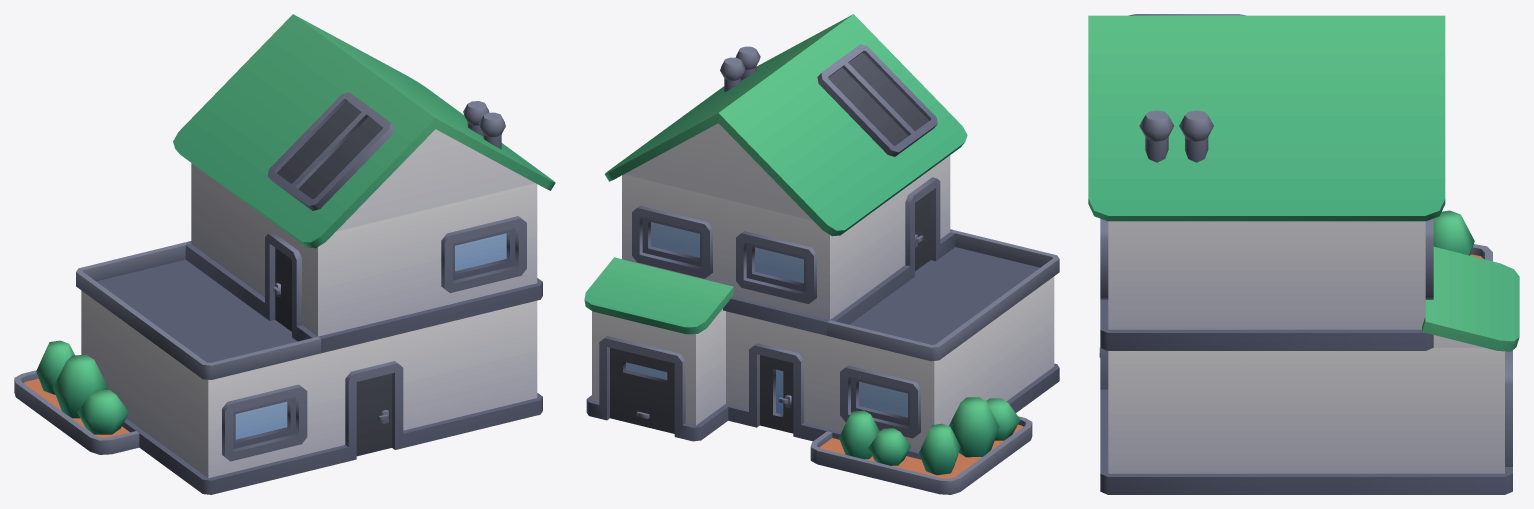
File: house_suburb_u.glb
3 renders of one model, left to right at view 1: azimuth 30°, elevation 25°; view 2: azimuth 150°, elevation 25°; view 3: azimuth 270°, elevation 25°, orthographic. The views are drawn at different scales.
Parts seen in each view (by area): view 1: building-type-u; view 2: building-type-u; view 3: building-type-u.
Part boxes in pixels (x1=…): building-type-u: x1=14, y1=14, x2=555, y2=494; building-type-u: x1=584, y1=14, x2=1059, y2=494; building-type-u: x1=1088, y1=14, x2=1519, y2=494.
Bounding box in the file's own units: 1.43 × 1.14 × 1.09.
Materials: 1 (1 with a texture image).
